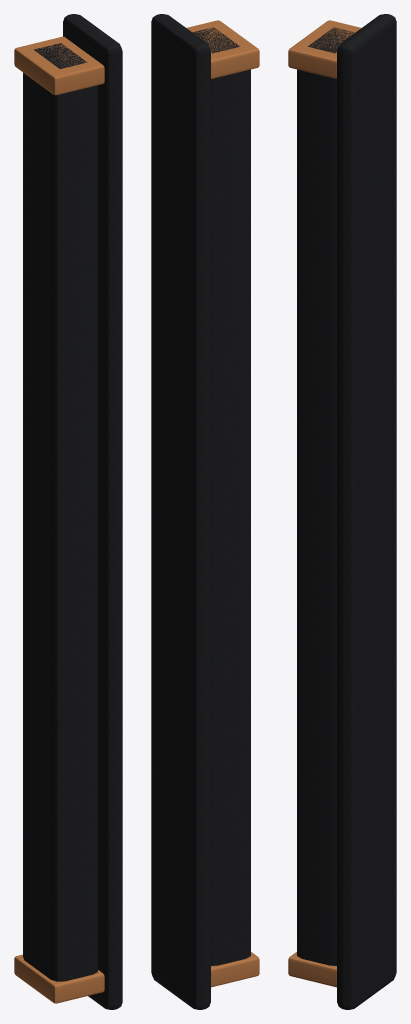
File: SM_EC_WallLight.glb
The picture shows the model from 3 angles, left to right: view 1: azimuth 30°, elevation 25°; view 2: azimuth 210°, elevation 25°; view 3: azimuth 330°, elevation 25°; orthographic projection.
Visible parts, largest first — view 1: SM_EC_WallLight; view 2: SM_EC_WallLight; view 3: SM_EC_WallLight.
Boxes of the visible parts, left/top/right/bottom form: SM_EC_WallLight: left=14, top=14, right=122, bottom=1009; SM_EC_WallLight: left=151, top=14, right=259, bottom=1009; SM_EC_WallLight: left=288, top=14, right=396, bottom=1009.
Size of the model in its own units: 0.074 by 1 by 0.09.
2 materials, 2 textured.
